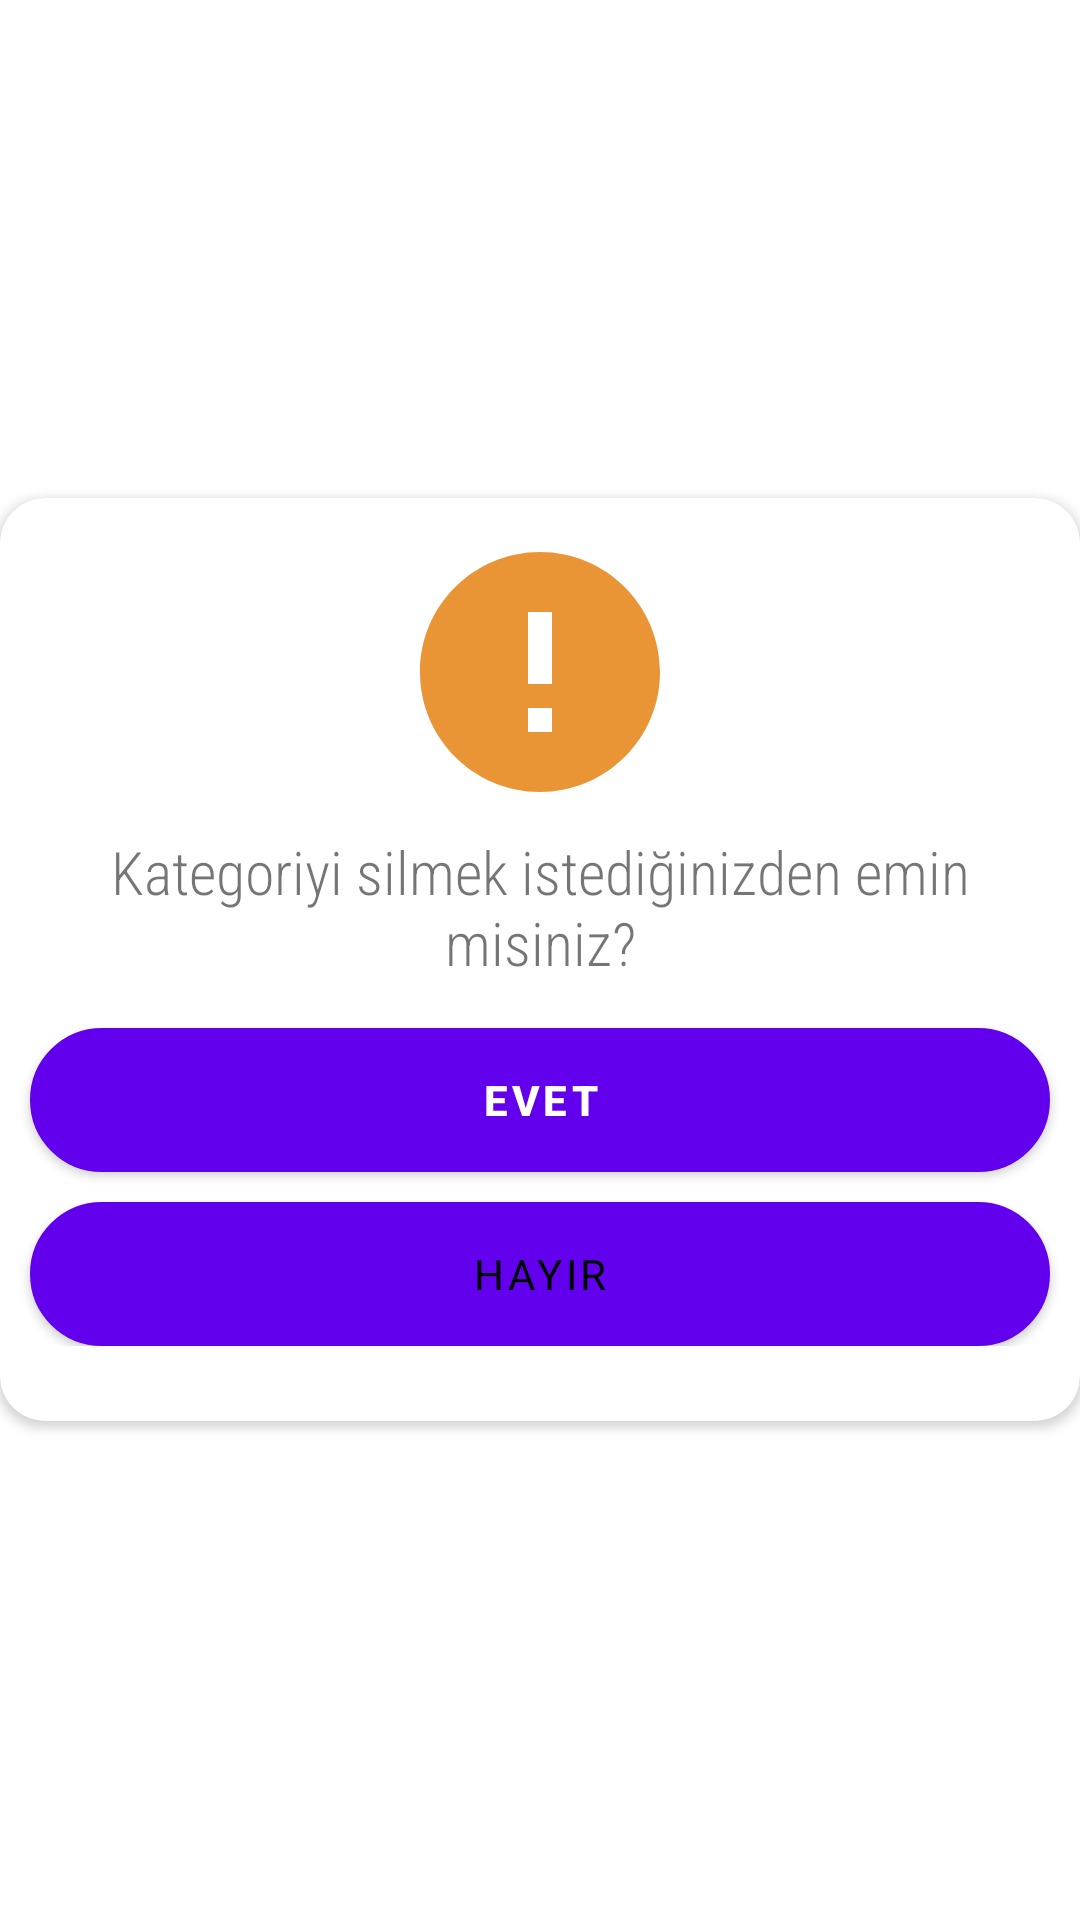

Point at icon controls on the screen. Image size 1080 × 1920, points as [x,y].
error: [540,672]
